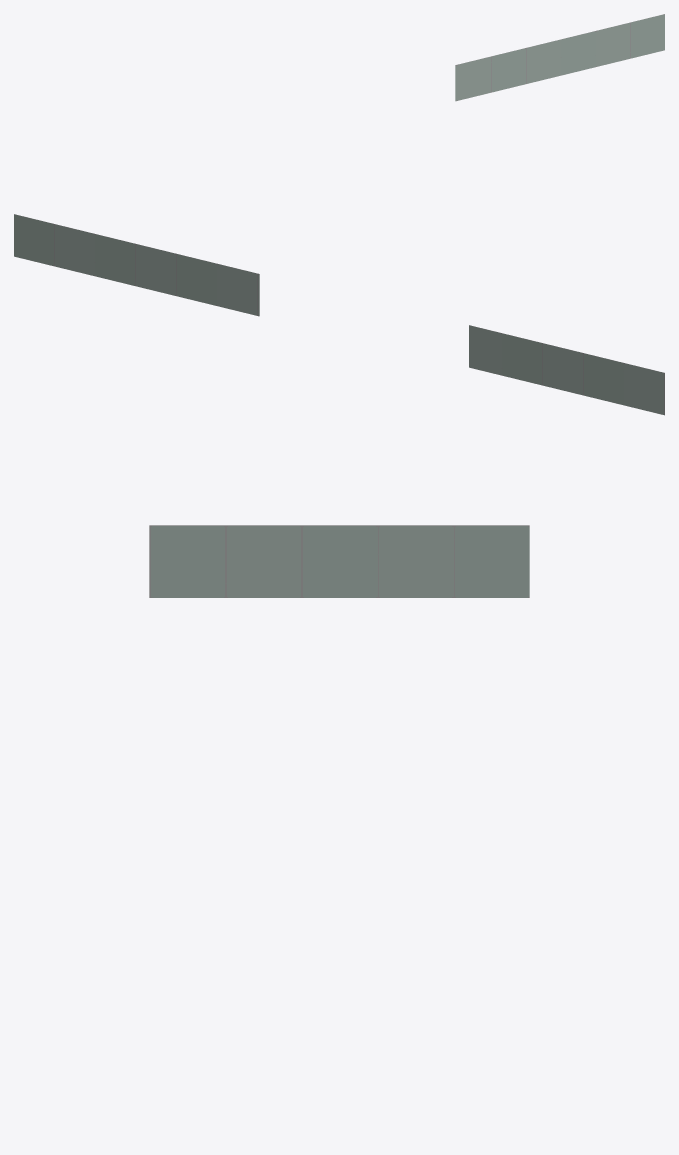
Rendered from kd_stage_135ded_4_111.glb.
3 renders of one model, top to bottom at view 1: azimuth 30°, elevation 25°; view 2: azimuth 150°, elevation 25°; view 3: azimuth 270°, elevation 25°, orthographic. The views are drawn at different scales.
Visible parts, largest first — view 1: kd_stage_135ded_4_111; view 2: kd_stage_135ded_4_111; view 3: kd_stage_135ded_4_111.
Part boxes in pixels (bbox=[...]): kd_stage_135ded_4_111: bbox=[455, 14, 664, 101]; kd_stage_135ded_4_111: bbox=[14, 214, 664, 415]; kd_stage_135ded_4_111: bbox=[149, 525, 529, 597].
Size of the model in its own units: 3.19 by 0.1988 by 0.9435.
1 material, 1 textured.
